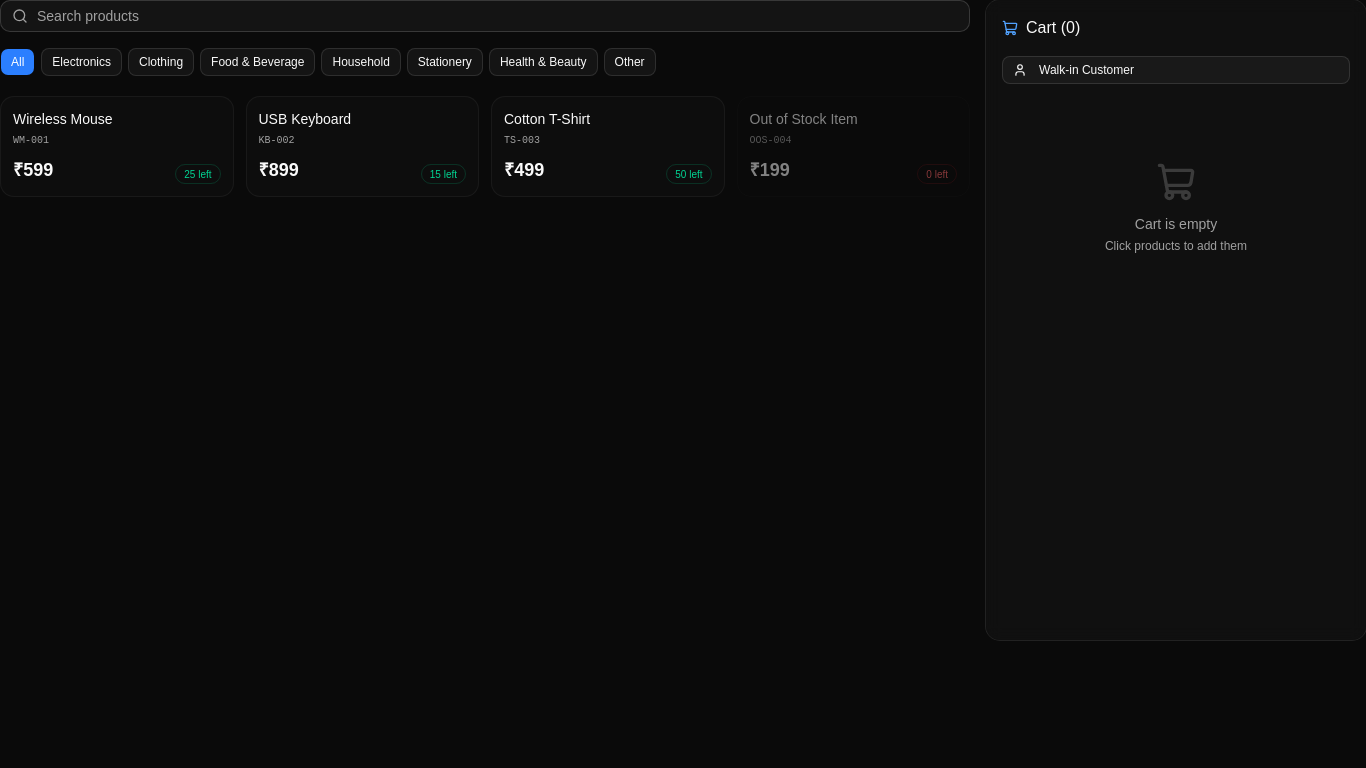
POS Page — Checkout Flow › opens checkout dialog when clicking Checkout button
Expected: the text "Wireless Mouse" is shown, [13,111,113,127]
Add product first
Click the button "Wireless Mouse WM-001 ₹599 25 left": point(117, 146) [0,96,234,197]
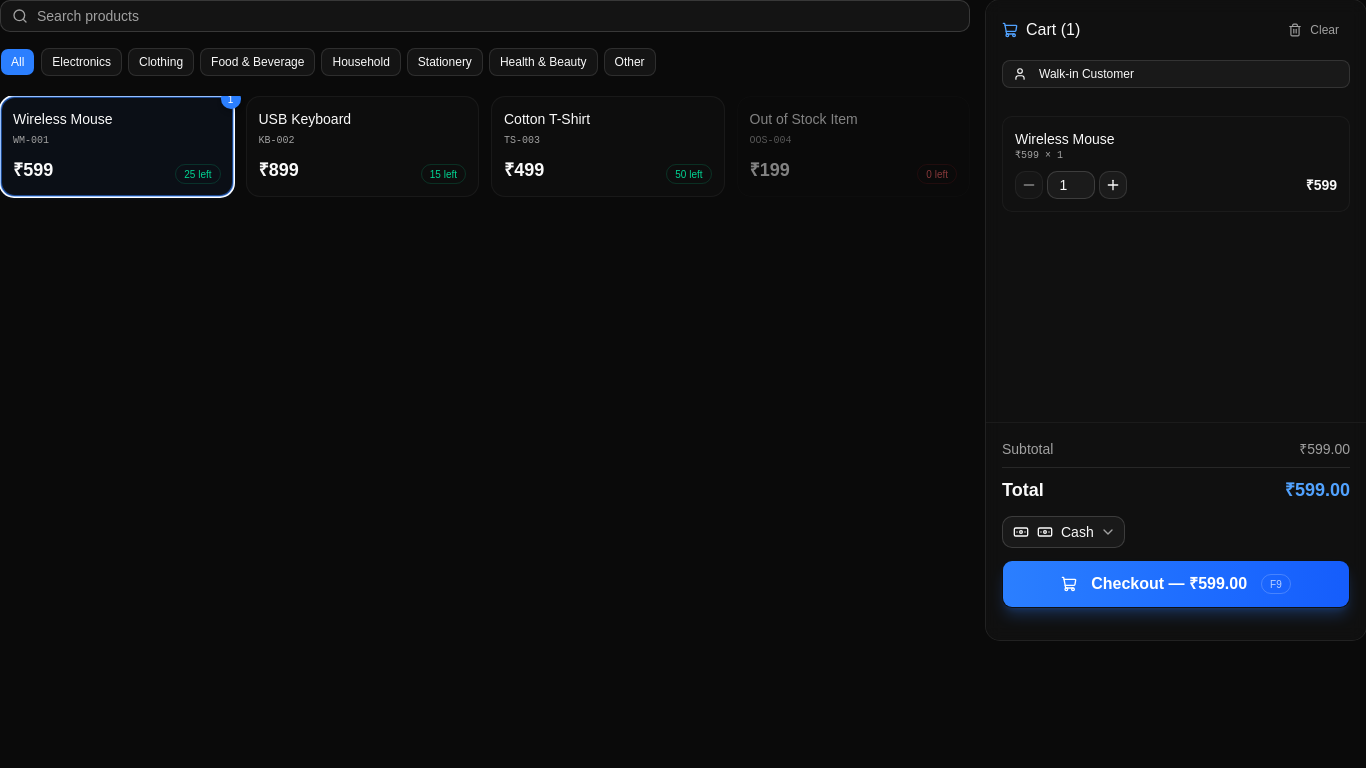
Now the text "Cart (1)" is shown, box [1002,18,1080,42]
Click the button "Checkout — ₹599.00 F9": point(1176, 584) [1002,560,1350,608]
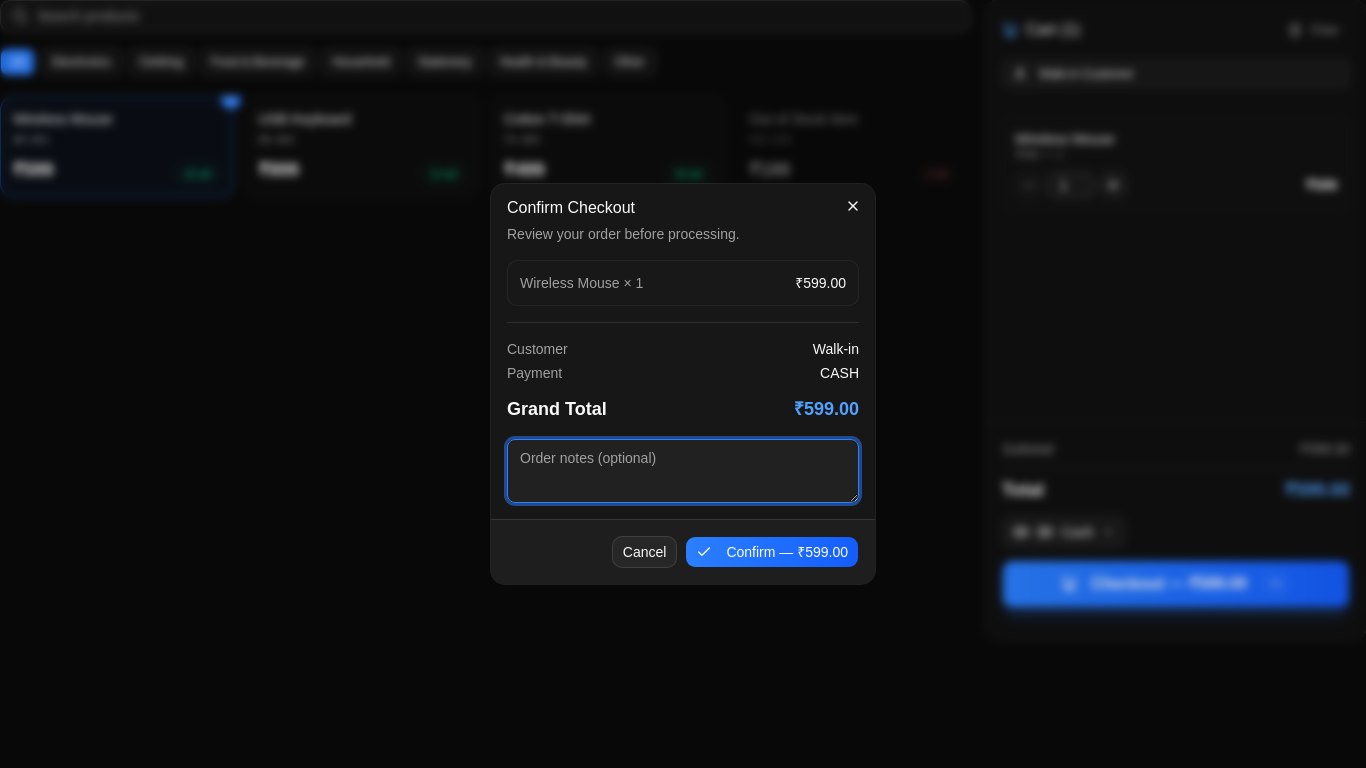
Now the heading "Confirm Checkout" is shown, box [507,199,635,216]
Now the text "Walk-in" is shown, box [813,339,859,359]
Now the text "CASH" is shown, box [820,363,859,383]
